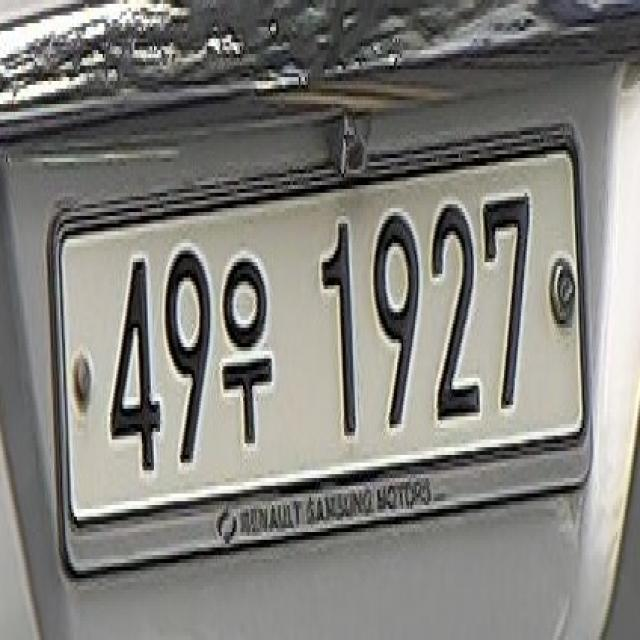1: (319, 205, 364, 448)
2: (428, 186, 482, 436)
4: (106, 245, 160, 486)
7: (484, 180, 536, 424)
9: (371, 199, 424, 452), (163, 230, 214, 483)
license_plate: (50, 115, 592, 583)
u: (219, 229, 286, 462)
